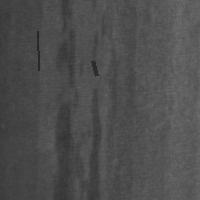inclusion: (53, 1, 99, 199), (55, 1, 84, 103), (35, 29, 40, 72), (90, 58, 98, 77)
